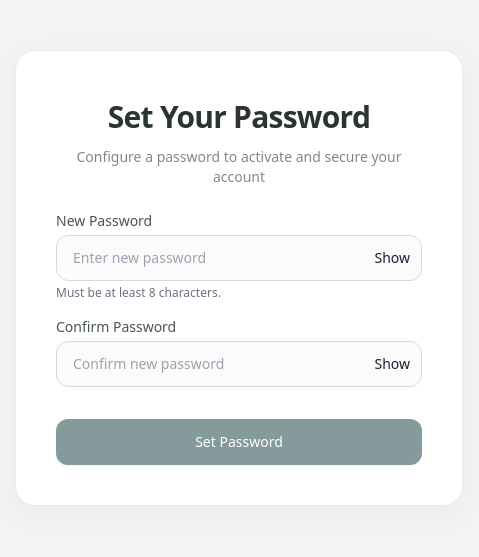
Test: ResetPasswordConfirmPage › shows error when passwords do not match
Type "NewPassword123!" into the password field labelled "New Password".
click(239, 258); type("NewPassword123!")  # box [56,235,422,281]
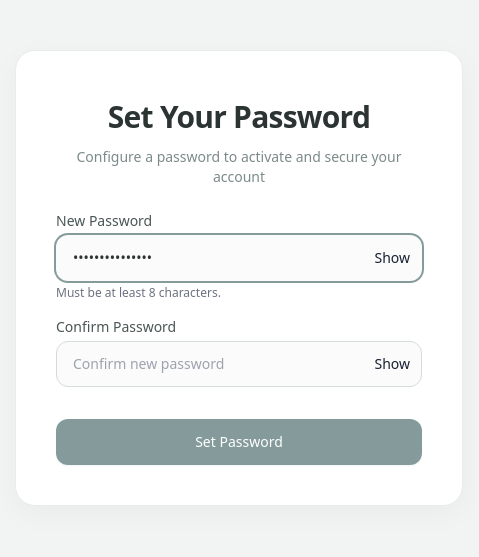
Type "DifferentPassword123!" into the password field labelled "Confirm Password".
click(239, 364); type("DifferentPassword123!")  # box [56,341,422,387]
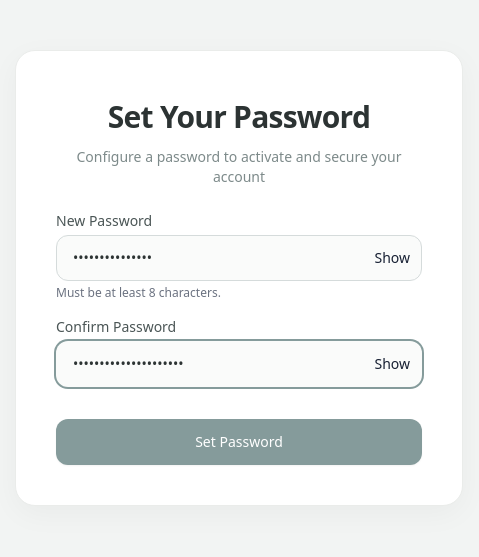
Click the button "Set Password".
click(239, 442)  # box [56,419,422,465]
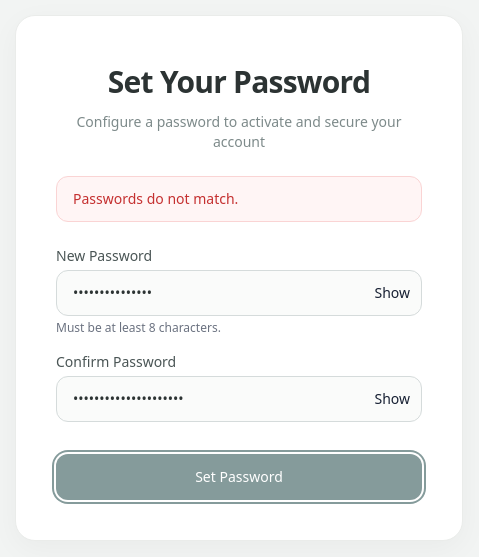
Expected: the text "Passwords do not match." is shown, [56,176,422,222]
